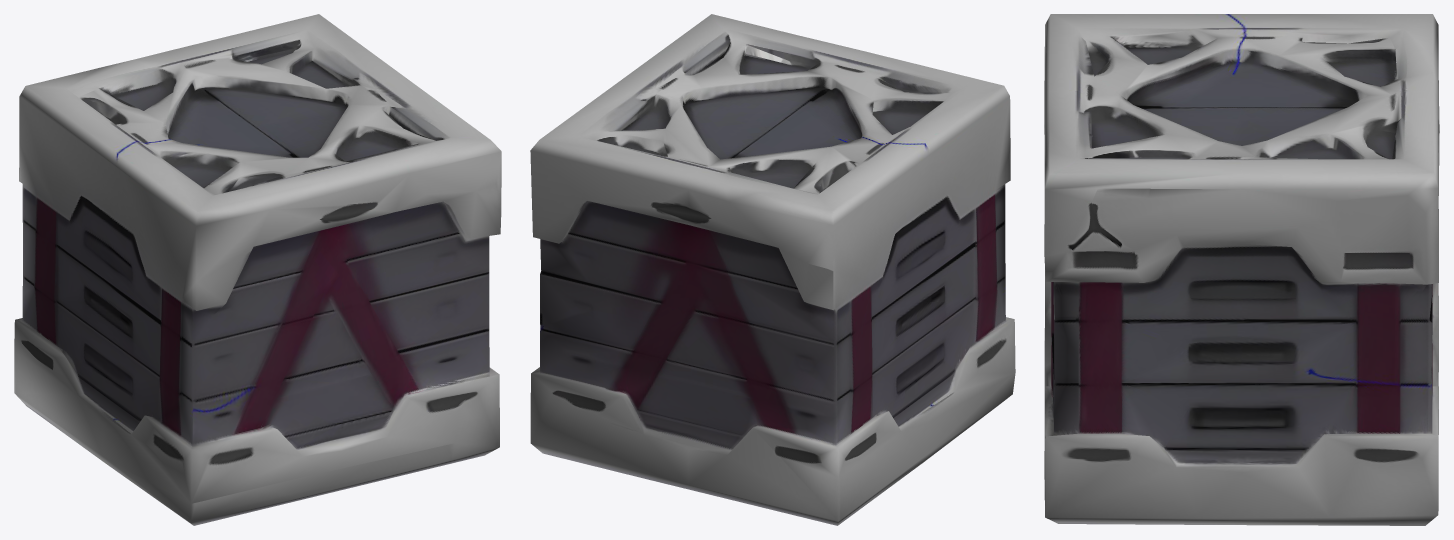
The picture shows the model from 3 angles, left to right: view 1: azimuth 30°, elevation 25°; view 2: azimuth 150°, elevation 25°; view 3: azimuth 270°, elevation 25°; orthographic projection. The views are drawn at different scales.
Visible parts, largest first — view 1: tripo_node_d83fd4bd; view 2: tripo_node_d83fd4bd; view 3: tripo_node_d83fd4bd.
Boxes of the visible parts, x1,y1,x2,y2 form: tripo_node_d83fd4bd: (14, 14, 501, 525); tripo_node_d83fd4bd: (530, 14, 1015, 525); tripo_node_d83fd4bd: (1044, 14, 1439, 525).
Size of the model in its own units: 0.815 by 0.7973 by 0.8091.
Materials: 1 (1 with a texture image).
